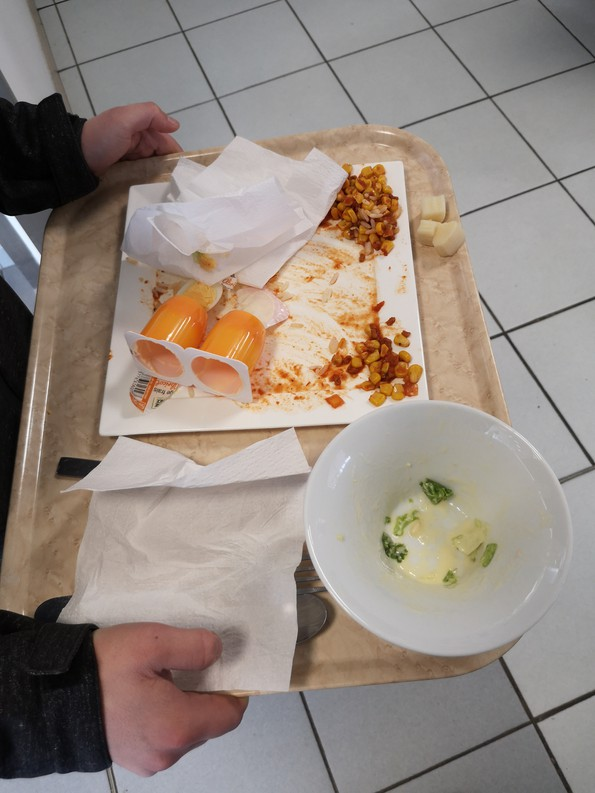orga: (385, 478, 505, 588), (339, 163, 461, 262), (323, 308, 430, 415)
trash: (80, 441, 308, 620), (149, 137, 328, 287), (121, 299, 276, 420)
